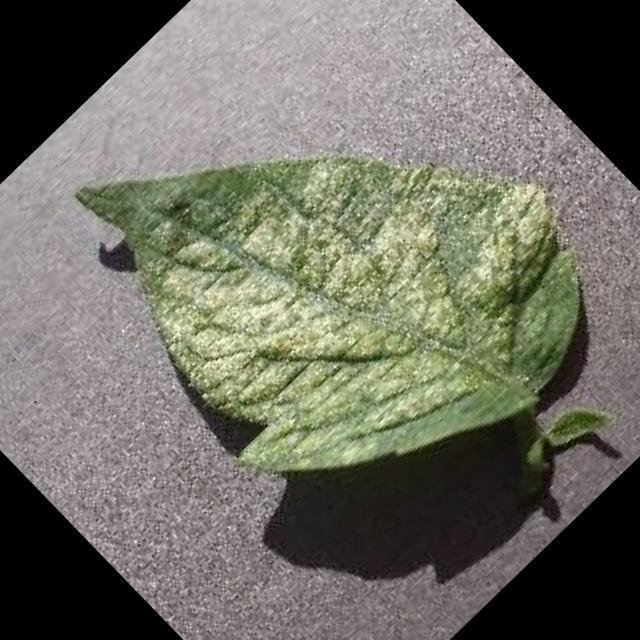Tomato spider mites leaf: (17, 0, 640, 584)
